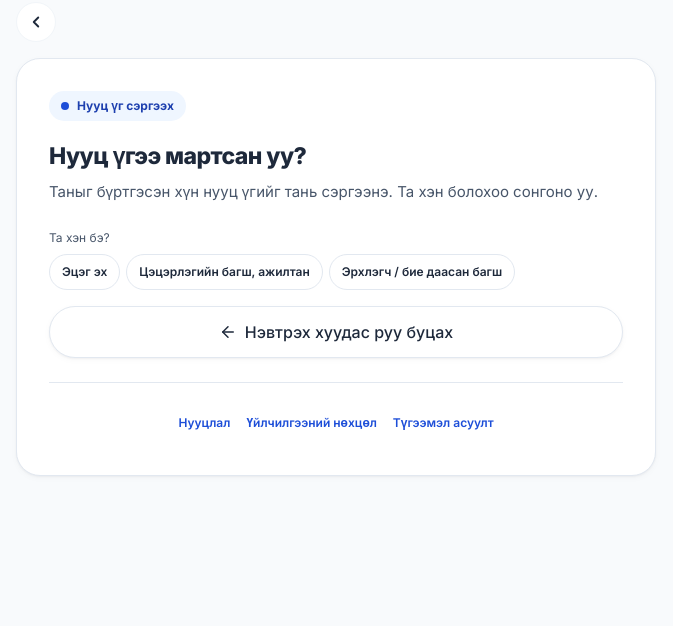
Test: forgot password — the phone is lost › says who to turn to — whoever registered you resets you
The image size is (673, 626).
Click the button "Эцэг эх" at (85, 272), box [49,254,120,290]
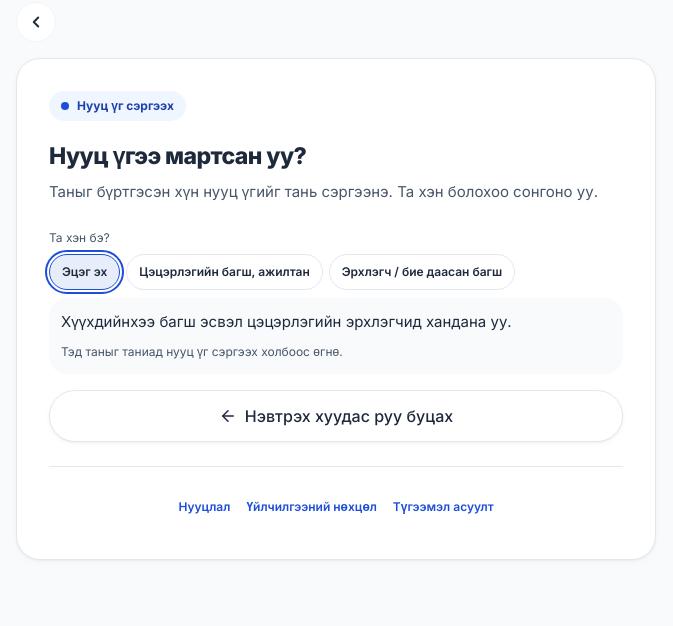
Now the message shows "Хүүхдийнхээ багш эсвэл цэцэрлэгийн эрхлэгчид хандана уу.", box [61,312,512,331]
Click the button "Цэцэрлэгийн багш, ажилтан" at (224, 272), box [126,254,323,290]
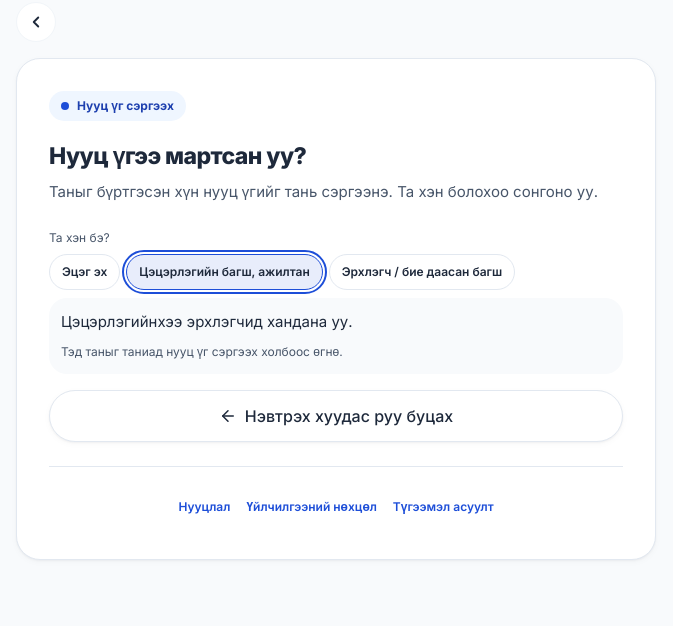
Now the message shows "Цэцэрлэгийнхээ эрхлэгчид хандана уу.", box [61,312,353,331]
Click the button "Эрхлэгч / бие даасан багш" at (422, 272), box [329,254,515,290]
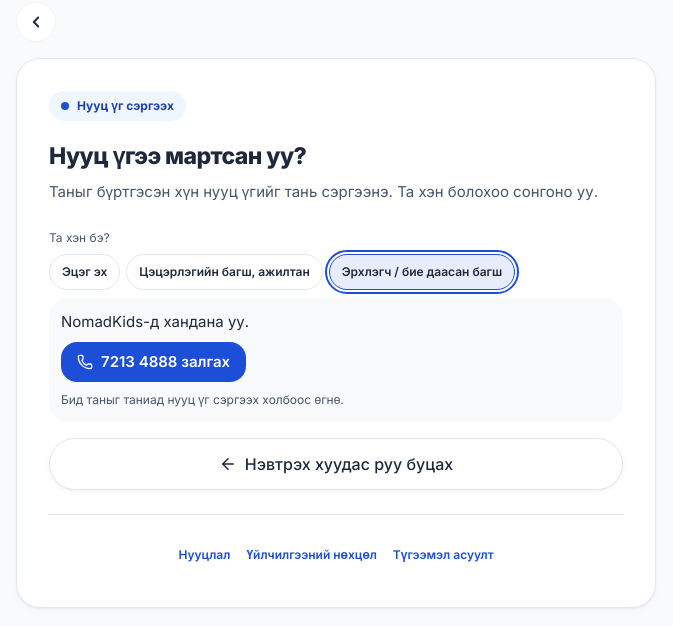
Now the message shows "NomadKids-д хандана уу.", box [61,312,249,331]
